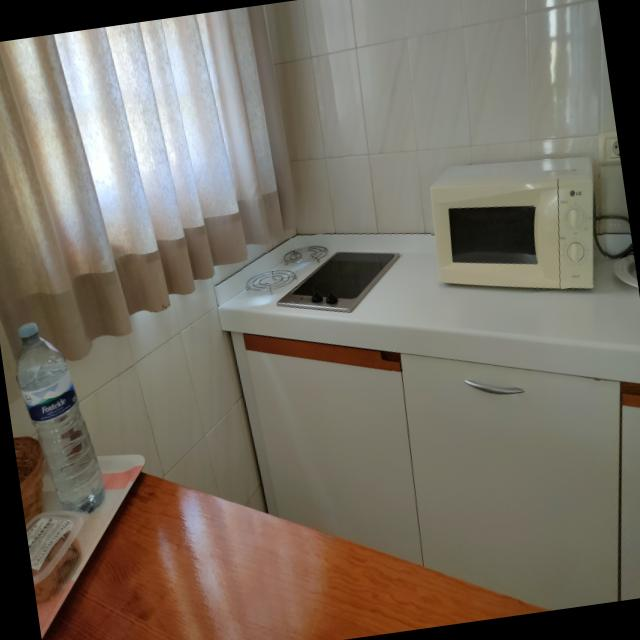cabinet: (233, 335, 640, 610)
countertop: (42, 473, 550, 640), (218, 235, 640, 385)
microwave: (431, 156, 596, 291)
sofa: (246, 247, 401, 313)
